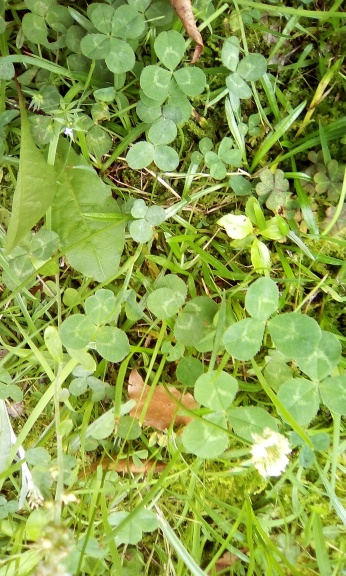4leaf: (146, 273, 220, 346), (79, 4, 145, 75)
